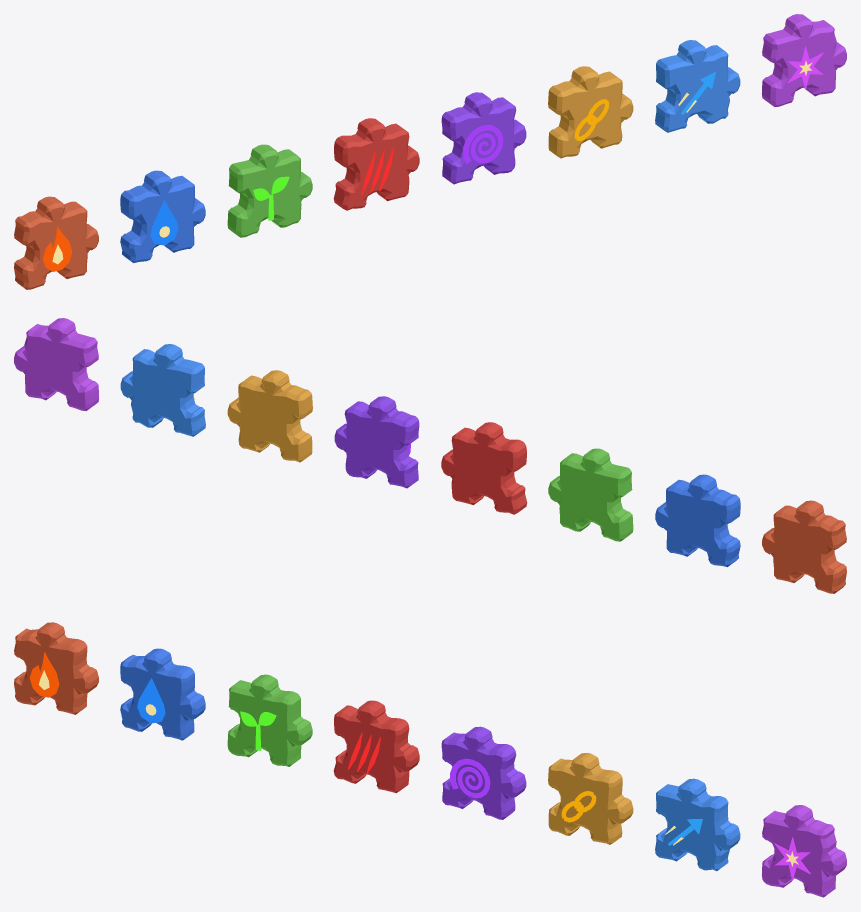
The model's file is runas_acesas.glb.
3 renders of one model, top to bottom at view 1: azimuth 30°, elevation 25°; view 2: azimuth 150°, elevation 25°; view 3: azimuth 330°, elevation 25°, orthographic.
Parts seen in each view (by area): view 1: Runa_arremesso_acesa_Pedra, Runa_feroz_acesa_Pedra, Runa_prende_acesa_Pedra, Runa_vida_acesa_Pedra, Runa_quebrar_acesa_Pedra, Runa_fogo_acesa_Pedra, Runa_agua_acesa_Pedra, Runa_gravitacao_acesa_Pedra, Runa_agua_acesa_Simbolo0, Runa_fogo_acesa_Simbolo0, Runa_quebrar_acesa_Simbolo0; view 2: Runa_feroz_acesa_Pedra, Runa_arremesso_acesa_Pedra, Runa_prende_acesa_Pedra, Runa_vida_acesa_Pedra, Runa_fogo_acesa_Pedra, Runa_agua_acesa_Pedra, Runa_gravitacao_acesa_Pedra, Runa_quebrar_acesa_Pedra; view 3: Runa_feroz_acesa_Pedra, Runa_arremesso_acesa_Pedra, Runa_prende_acesa_Pedra, Runa_vida_acesa_Pedra, Runa_quebrar_acesa_Pedra, Runa_agua_acesa_Pedra, Runa_fogo_acesa_Pedra, Runa_gravitacao_acesa_Pedra, Runa_agua_acesa_Simbolo0, Runa_fogo_acesa_Simbolo0, Runa_quebrar_acesa_Simbolo0.
Boxes of the visible parts, x1,y1,x2,y2 form: Runa_arremesso_acesa_Pedra: [655, 40, 740, 132]; Runa_feroz_acesa_Pedra: [333, 118, 419, 210]; Runa_prende_acesa_Pedra: [548, 66, 633, 158]; Runa_vida_acesa_Pedra: [227, 144, 312, 237]; Runa_quebrar_acesa_Pedra: [762, 14, 846, 106]; Runa_fogo_acesa_Pedra: [14, 196, 98, 289]; Runa_agua_acesa_Pedra: [120, 170, 205, 263]; Runa_gravitacao_acesa_Pedra: [441, 92, 526, 184]; Runa_agua_acesa_Simbolo0: [150, 200, 178, 245]; Runa_fogo_acesa_Simbolo0: [42, 226, 72, 271]; Runa_quebrar_acesa_Simbolo0: [787, 46, 823, 89]; Runa_feroz_acesa_Pedra: [441, 422, 527, 514]; Runa_arremesso_acesa_Pedra: [120, 344, 205, 436]; Runa_prende_acesa_Pedra: [227, 370, 312, 462]; Runa_vida_acesa_Pedra: [548, 448, 633, 541]; Runa_fogo_acesa_Pedra: [762, 500, 846, 593]; Runa_agua_acesa_Pedra: [655, 474, 740, 567]; Runa_gravitacao_acesa_Pedra: [334, 396, 419, 488]; Runa_quebrar_acesa_Pedra: [14, 318, 98, 410]; Runa_feroz_acesa_Pedra: [333, 700, 419, 793]; Runa_arremesso_acesa_Pedra: [655, 778, 740, 871]; Runa_prende_acesa_Pedra: [548, 753, 633, 844]; Runa_vida_acesa_Pedra: [227, 674, 312, 766]; Runa_quebrar_acesa_Pedra: [762, 805, 846, 897]; Runa_agua_acesa_Pedra: [120, 648, 205, 740]; Runa_fogo_acesa_Pedra: [14, 622, 98, 714]; Runa_gravitacao_acesa_Pedra: [441, 726, 526, 819]; Runa_agua_acesa_Simbolo0: [137, 678, 165, 723]; Runa_fogo_acesa_Simbolo0: [29, 652, 59, 697]; Runa_quebrar_acesa_Simbolo0: [774, 837, 810, 880].
Bounding box in the file's own units: 3.86 × 0.3613 × 0.106.
